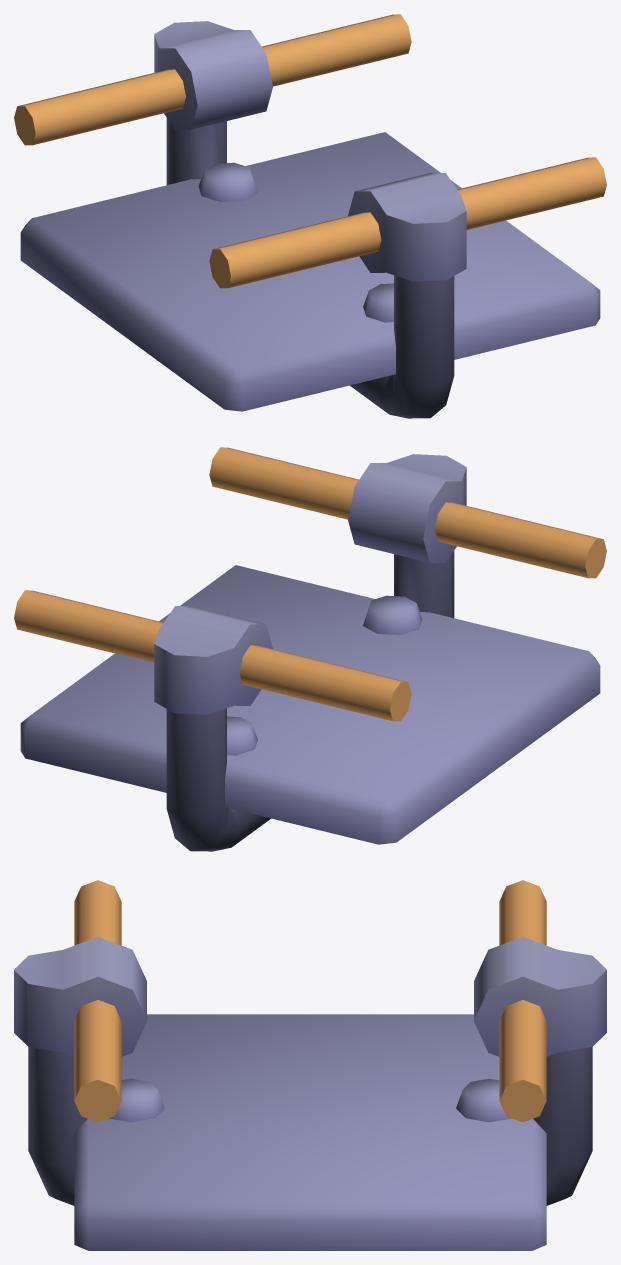
File: catwalk-straight.glb
3 views of the same model, one above another, from view 1: azimuth 30°, elevation 25°; view 2: azimuth 150°, elevation 25°; view 3: azimuth 270°, elevation 25° (orthographic). The views are drawn at different scales.
Visible parts, largest first — view 1: catwalk-straight; view 2: catwalk-straight; view 3: catwalk-straight.
Part boxes in pixels (x1,y1,x2,y2): catwalk-straight: (14, 14, 606, 418); catwalk-straight: (14, 447, 606, 851); catwalk-straight: (14, 880, 606, 1250).
Size of the model in its own units: 1 by 0.6013 by 1.26.
Materials: 1 (1 with a texture image).
